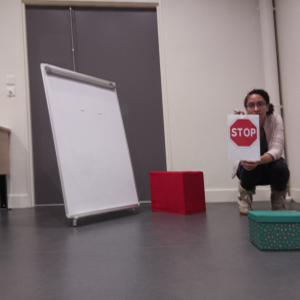stop: (229, 118, 258, 147)
